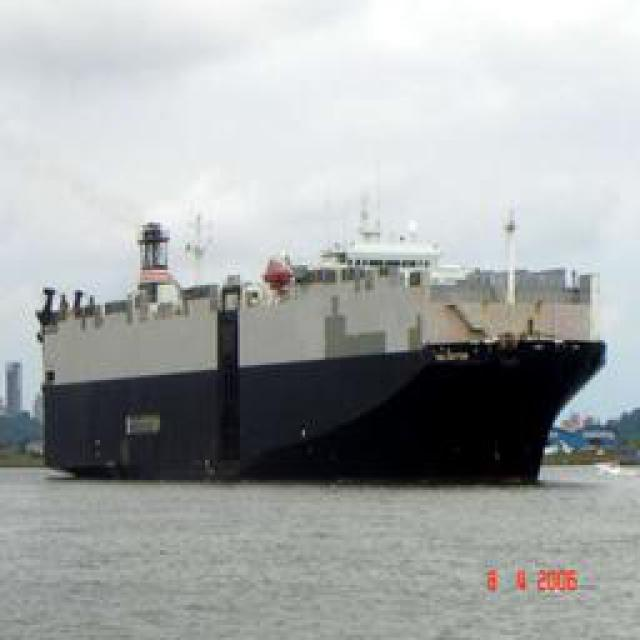Ship: (31, 202, 604, 482)
